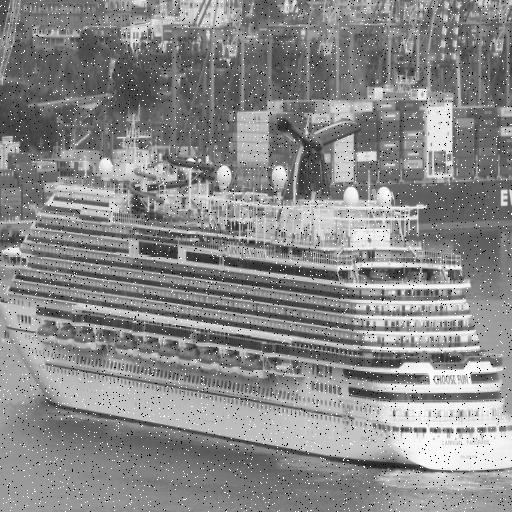cruises: (1, 101, 512, 483)
